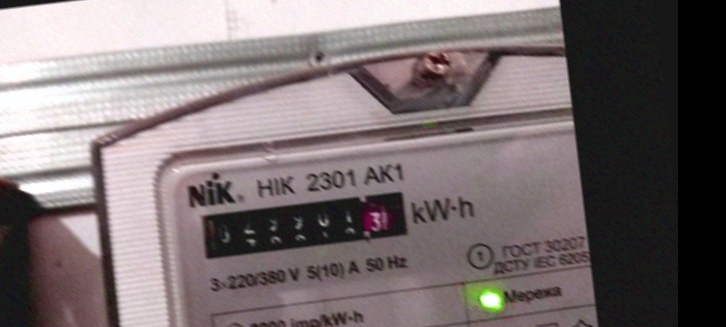0: (313, 200, 330, 226), (213, 219, 232, 241)
1: (338, 198, 353, 223)
2: (238, 213, 256, 233)
3: (366, 206, 381, 229)
9: (288, 205, 305, 228), (263, 208, 278, 231)
screen: (185, 177, 418, 267)
